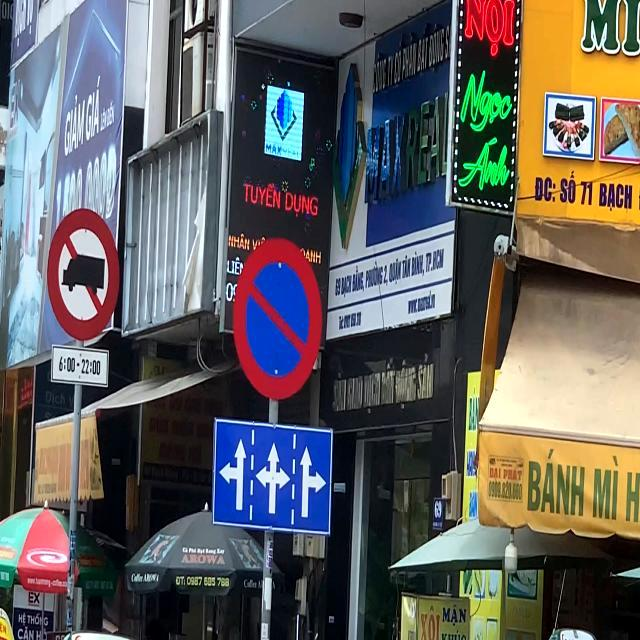Cam do xe: (232, 237, 323, 401)
Cam xe tai: (46, 206, 120, 342)
